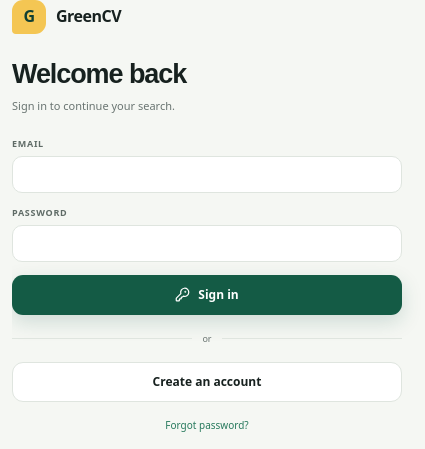
Test: AuthForm › shows the non-enumerating recovery message without redirecting
The image size is (425, 449).
Click the button "Forgot password?" at coordinates (207, 425), box left=12, top=417, right=402, bottom=433
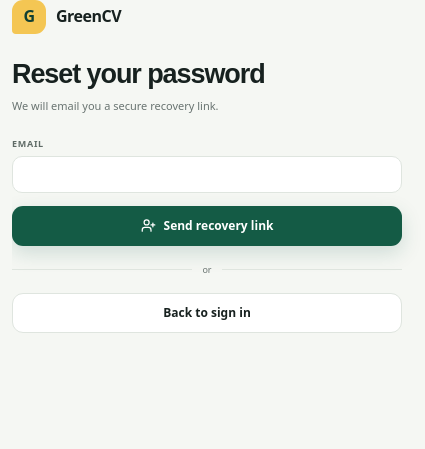
Type "person@example.com" into the field labelled "Email" at coordinates (207, 174), box left=12, top=156, right=402, bottom=193
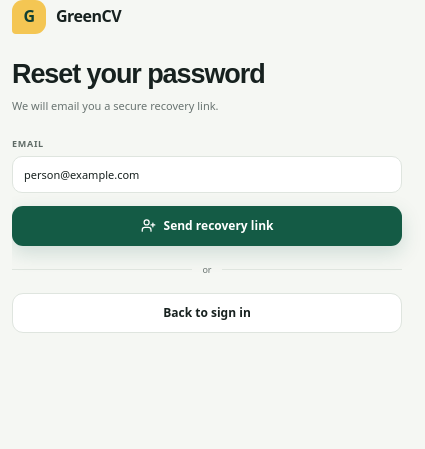
Submit the form labelled "email"
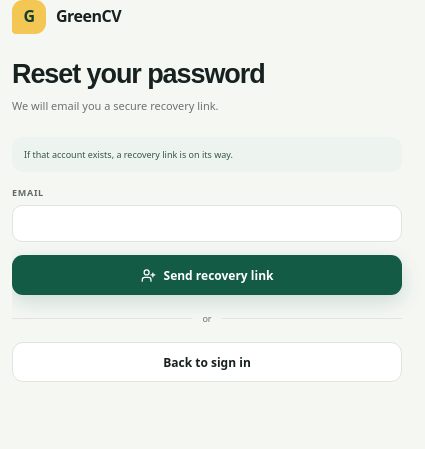
expect the button "Send recovery link" is shown: met, box left=12, top=255, right=402, bottom=295
expect the text "If that account exists, a recovery link is on its way." is shown: met, box left=12, top=137, right=402, bottom=172
